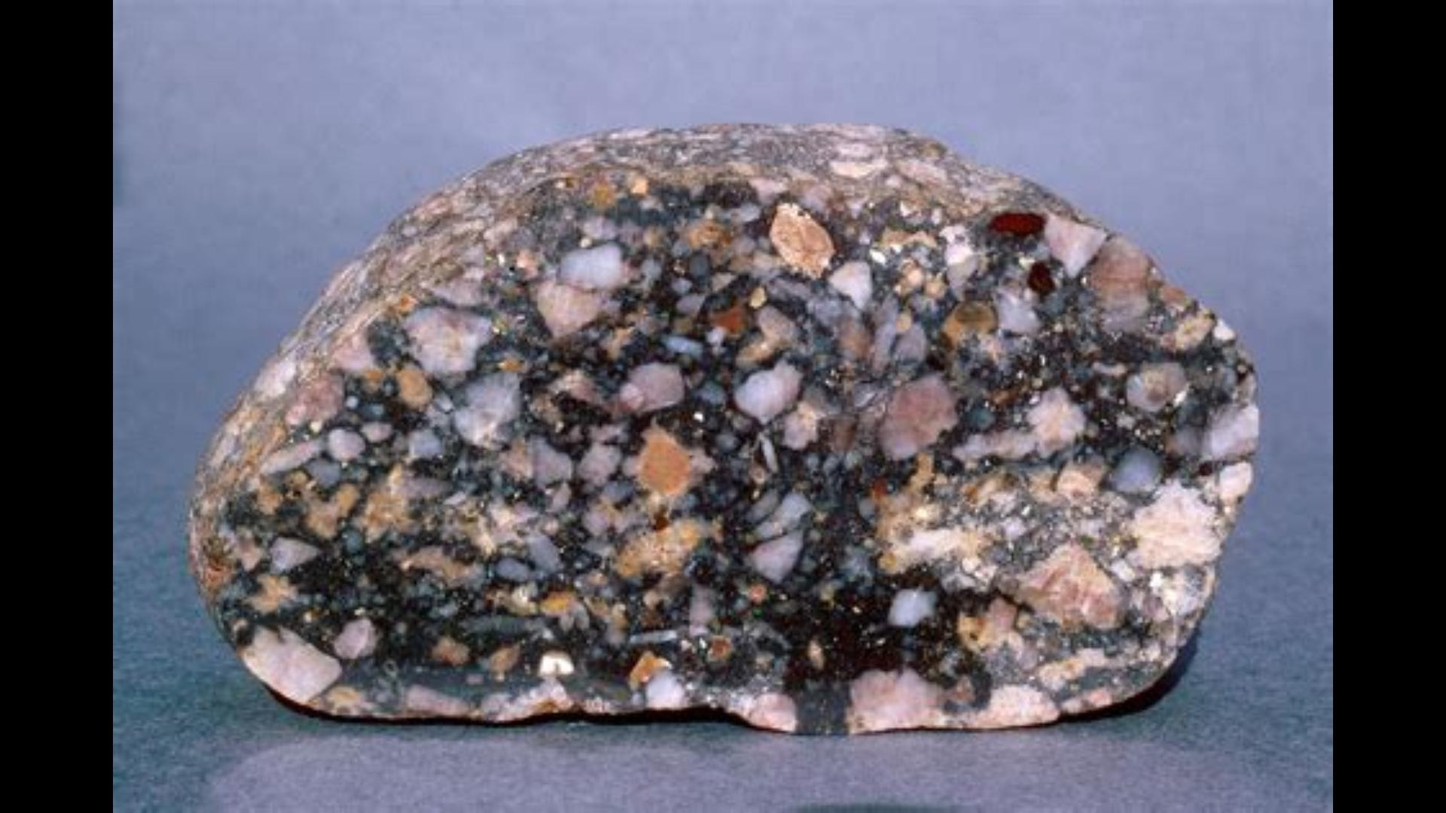rock: (195, 139, 1212, 728)
